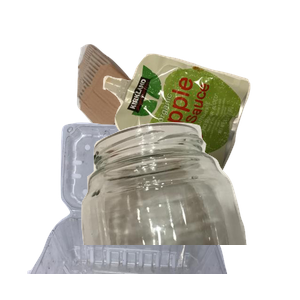cardboard: (74, 42, 225, 170)
glass: (74, 120, 300, 300)
plastic: (25, 120, 245, 300)
trash: (100, 51, 300, 214)
